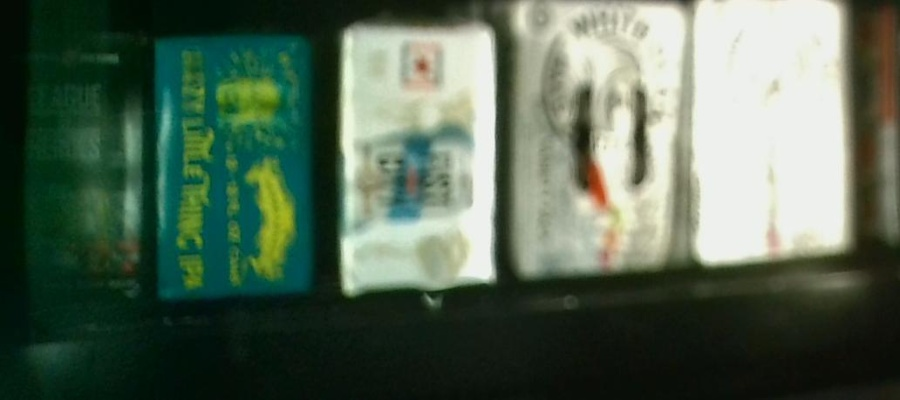bottle: (515, 4, 690, 285), (692, 1, 852, 276), (341, 22, 495, 298), (157, 32, 307, 304), (11, 31, 148, 302)
